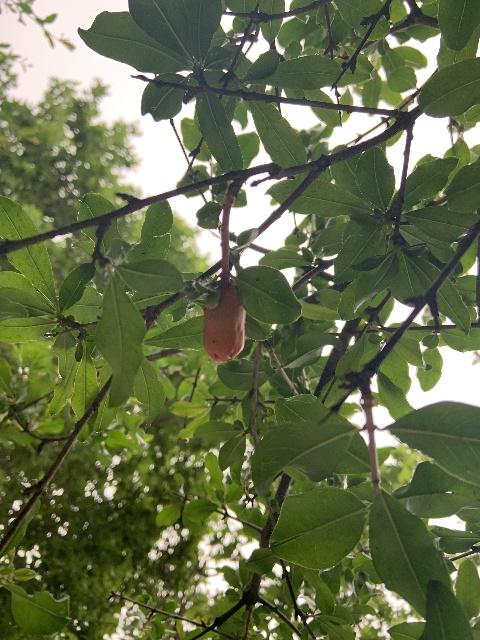bud: (202, 285, 246, 362)
